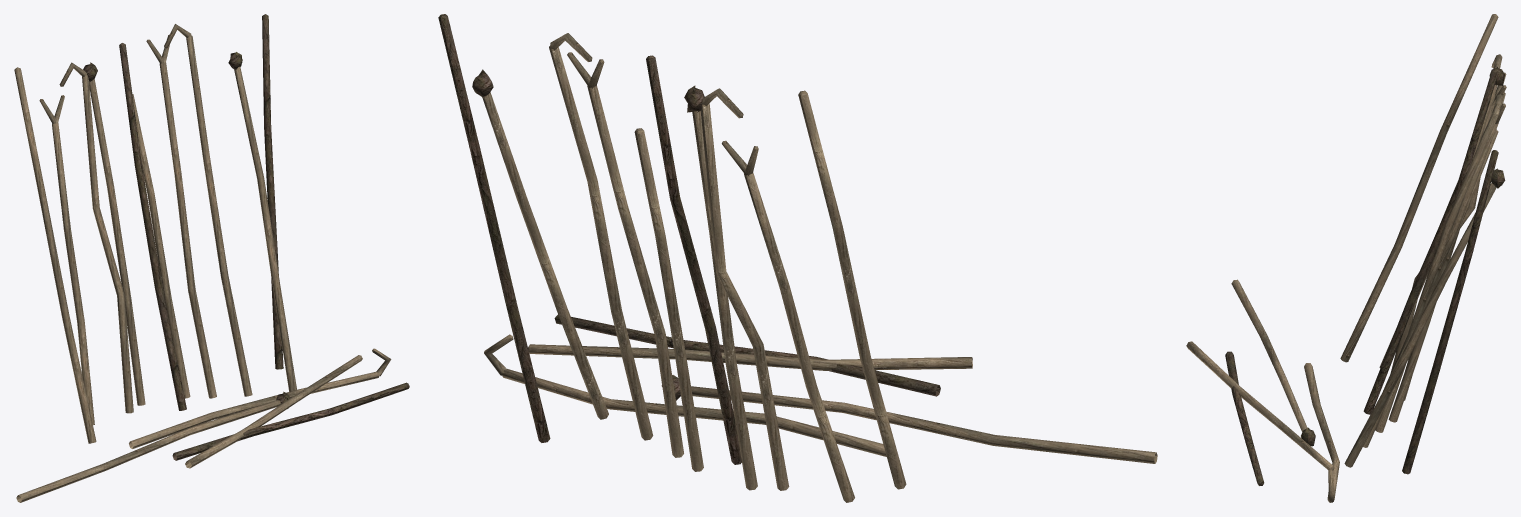
Rendered from cw_staff_heap.glb.
3 views of the same model, side by side, from view 1: azimuth 30°, elevation 25°; view 2: azimuth 150°, elevation 25°; view 3: azimuth 270°, elevation 25° (orthographic). The views are drawn at different scales.
Parts seen in each view (by area): view 1: cw_staff_heap; view 2: cw_staff_heap; view 3: cw_staff_heap.
Part boxes in pixels (bbox=[...]): cw_staff_heap: bbox=[14, 14, 409, 502]; cw_staff_heap: bbox=[438, 14, 1157, 502]; cw_staff_heap: bbox=[1186, 14, 1506, 502].
Bounding box in the file's own units: 1.88 × 1.41 × 1.18.
1 material, 1 textured.
